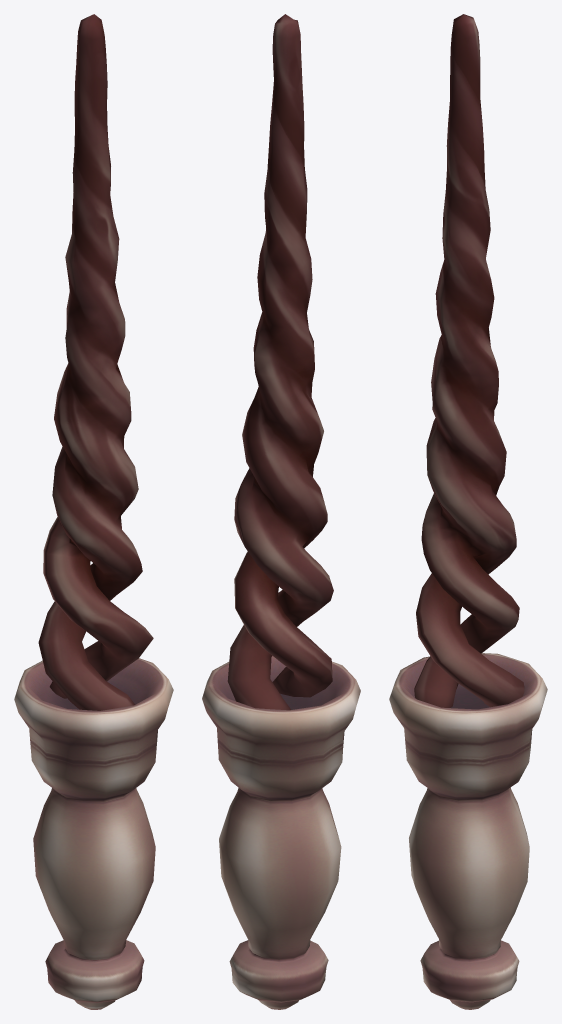
Rendered from Magic Wand.FBX.
3 renders of one model, left to right at view 1: azimuth 30°, elevation 25°; view 2: azimuth 150°, elevation 25°; view 3: azimuth 270°, elevation 25°, orthographic.
Parts seen in each view (by area): view 1: Magic Wand; view 2: Magic Wand; view 3: Magic Wand.
Part boxes in pixels (x1,y1,x2,y2): Magic Wand: [14, 14, 173, 1009]; Magic Wand: [202, 14, 360, 1009]; Magic Wand: [389, 14, 547, 1009].
Bounding box in the file's own units: 9.33 × 9.37 × 64.6.
Materials: 1 (1 with a texture image).
